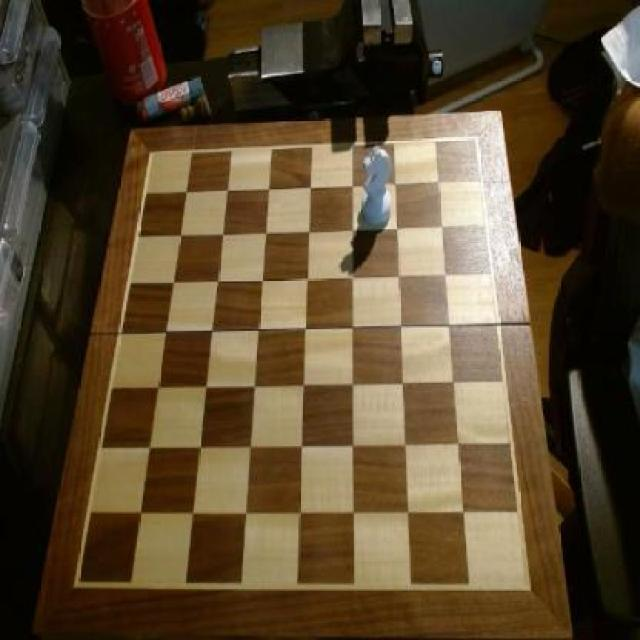white-king: (360, 146, 395, 230)
